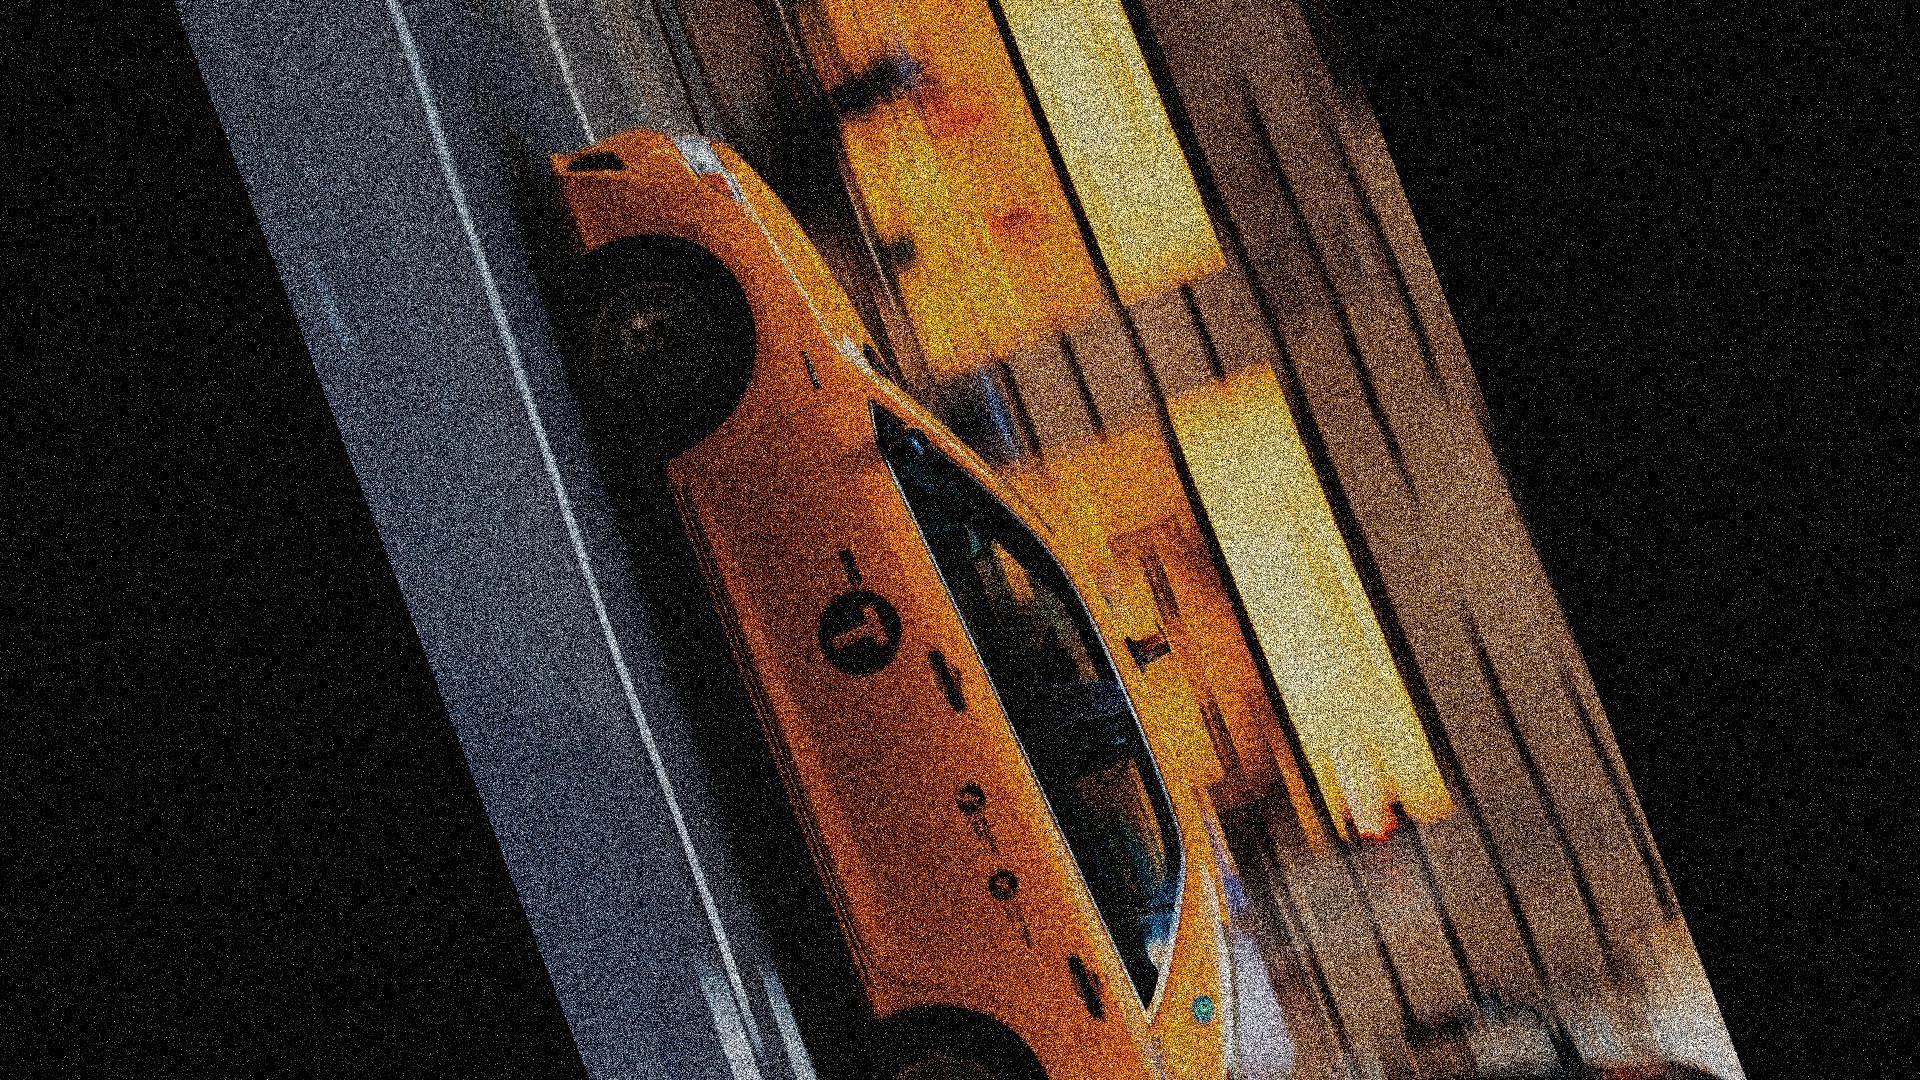taxi: (535, 120, 1270, 1080)
